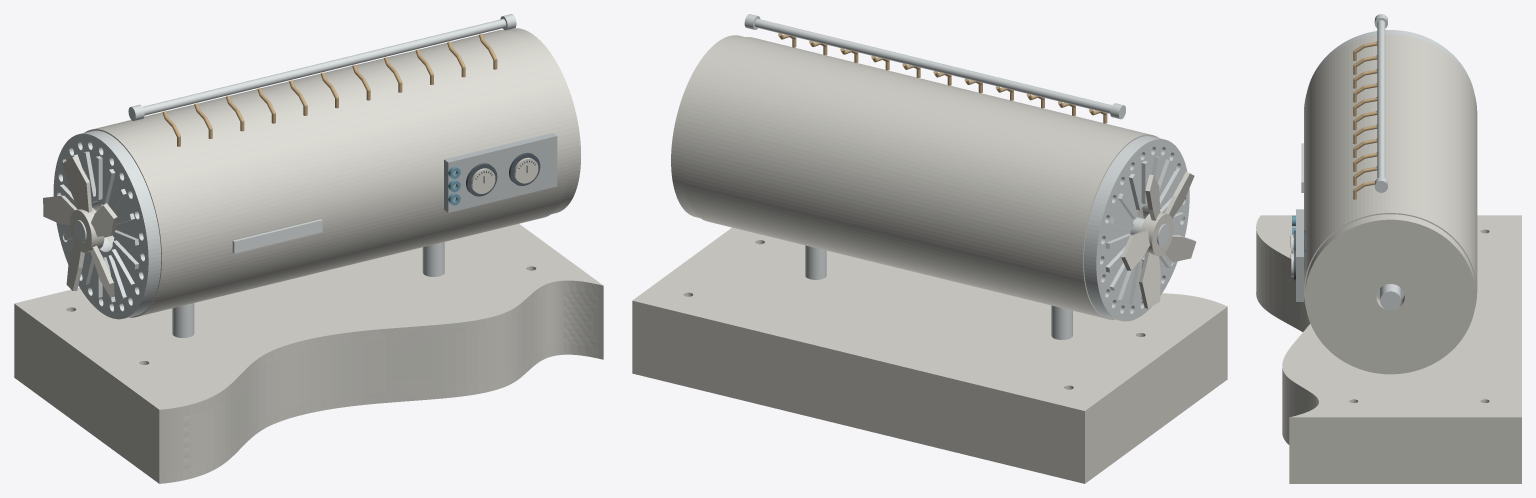
File: assembly.glb
3 renders of one model, left to right at view 1: azimuth 30°, elevation 25°; view 2: azimuth 150°, elevation 25°; view 3: azimuth 270°, elevation 25°, orthographic. The views are drawn at different scales.
Parts seen in each view (by area): view 1: GE-001:1, GE-002:1, GE-012:1, GE-003:1, GE-009:1, GE-014:1, GE-013:1, GE-019:1, GE-016:1, GE-016:2; view 2: GE-001:1, GE-002:1, GE-012:1, GE-009:1, GE-014:1, GE-013:1, GE-016:1, GE-016:2; view 3: GE-001:1, GE-002:1, GE-013:1, GE-014:1, GE-012:1, GE-003:1, GE-006:1.
Part boxes in pixels (x1,y1,x2,y2): GE-001:1: (14,224,603,483); GE-002:1: (84,29,569,317); GE-012:1: (53,130,161,319); GE-003:1: (444,133,557,212); GE-009:1: (43,156,117,297); GE-014:1: (128,14,516,120); GE-013:1: (507,28,580,214); GE-019:1: (232,219,322,253); GE-016:1: (172,303,194,337); GE-016:2: (422,242,444,276); GE-001:1: (632,227,1227,483); GE-002:1: (682,37,1158,319); GE-012:1: (1084,136,1189,321); GE-009:1: (1121,172,1196,308); GE-014:1: (744,14,1125,119); GE-013:1: (671,35,744,217); GE-016:1: (1051,305,1072,339); GE-016:2: (805,245,826,279); GE-001:1: (1256,215,1521,483); GE-002:1: (1304,34,1477,309); GE-013:1: (1305,214,1475,374); GE-014:1: (1374,14,1387,192); GE-012:1: (1307,30,1473,91); GE-003:1: (1296,209,1303,301); GE-006:1: (1380,284,1400,310).
Bounding box in the file's own units: 0.3711 × 0.24 × 0.2024.
